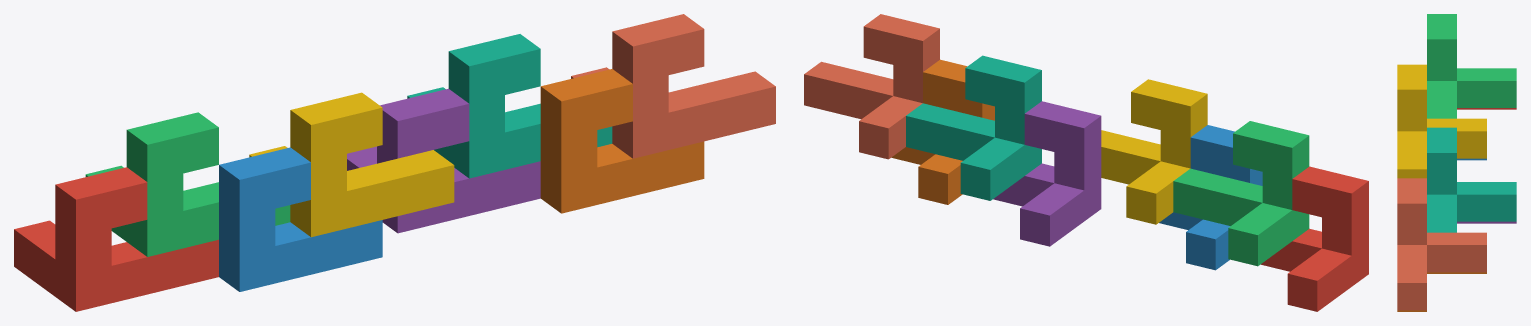
Rendered from tiling.obj.
3 renders of one model, left to right at view 1: azimuth 30°, elevation 25°; view 2: azimuth 150°, elevation 25°; view 3: azimuth 270°, elevation 25°, orthographic. The views are drawn at different scales.
Parts seen in each view (by area): view 1: copy_1_domain_1, copy_1_domain_4, copy_1_domain_8, copy_1_domain_6, copy_1_domain_2, copy_1_domain_3, copy_1_domain_7, copy_1_domain_5; view 2: copy_1_domain_3, copy_1_domain_7, copy_1_domain_8, copy_1_domain_5, copy_1_domain_1, copy_1_domain_4, copy_1_domain_2, copy_1_domain_6; view 3: copy_1_domain_8, copy_1_domain_7, copy_1_domain_3, copy_1_domain_4, copy_1_domain_5, copy_1_domain_6, copy_1_domain_1.
Boxes of the visible parts, x1,y1,x2,y2 form: copy_1_domain_1: (14,167,218,311); copy_1_domain_4: (249,92,454,237); copy_1_domain_8: (571,14,775,158); copy_1_domain_6: (540,69,704,213); copy_1_domain_2: (219,147,382,291); copy_1_domain_3: (85,112,290,256); copy_1_domain_7: (407,34,612,178); copy_1_domain_5: (347,88,540,233); copy_1_domain_3: (1173,121,1309,266); copy_1_domain_7: (906,55,1041,200); copy_1_domain_8: (804,14,939,159); copy_1_domain_5: (993,101,1101,246); copy_1_domain_1: (1261,166,1368,311); copy_1_domain_4: (1101,79,1207,224); copy_1_domain_2: (1159,125,1262,270); copy_1_domain_6: (891,59,994,204); copy_1_domain_8: (1397,178,1486,310); copy_1_domain_7: (1427,127,1516,232); copy_1_domain_3: (1427,14,1516,118); copy_1_domain_4: (1397,64,1486,178); copy_1_domain_5: (1457,221,1516,223); copy_1_domain_6: (1397,272,1486,311); copy_1_domain_1: (1457,108,1516,109).
Size of the model in its own units: 19 by 4 by 4.
